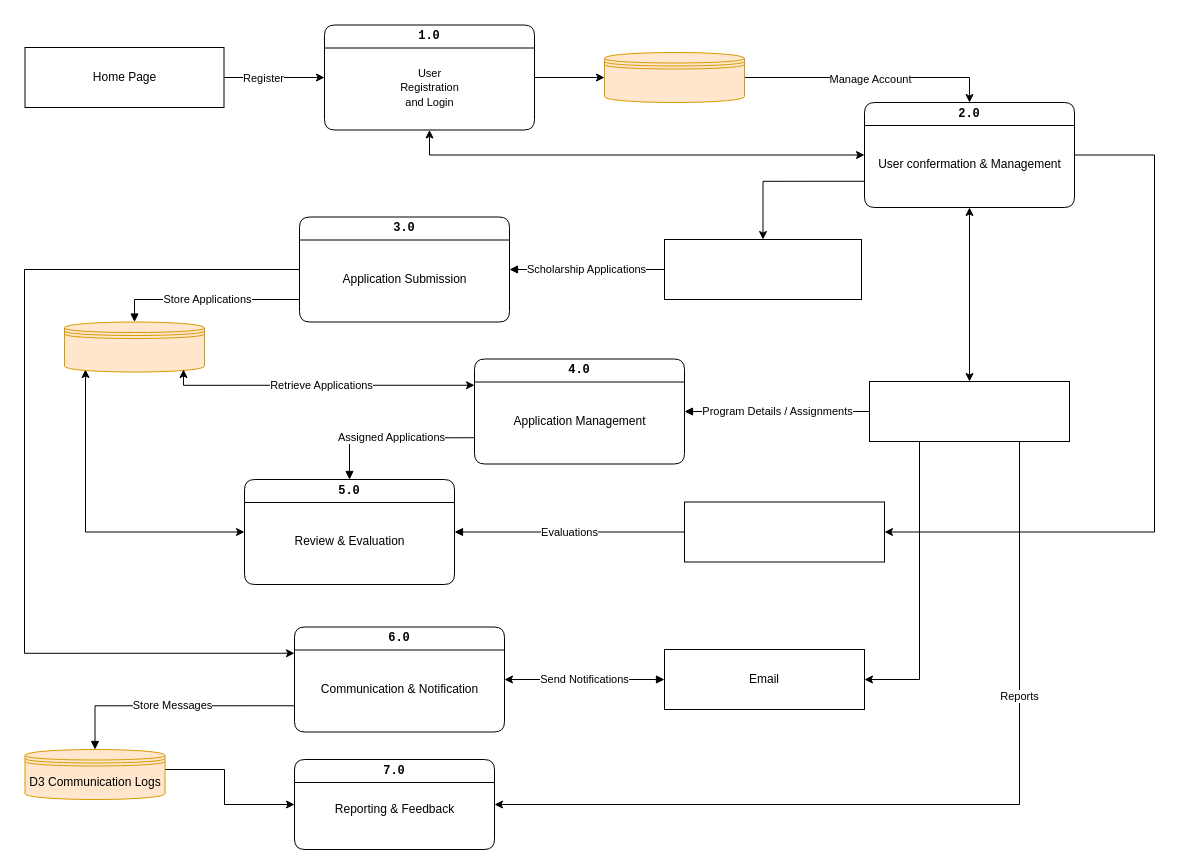
Image size: 1180x867. Some labels were removed from this diagram. The centre of each missing label's shape, as x and y in pixels:
D1 User Records: the point at 674,77
D2 Application Records: the point at 134,346
Scholarship Administrators: the point at 969,411
Scholarship Reviewers: the point at 784,531
Students Applicants: the point at 763,269
